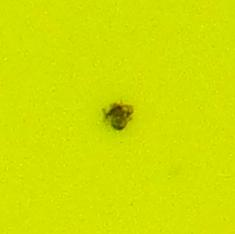Araneae: (100, 100, 135, 134)
